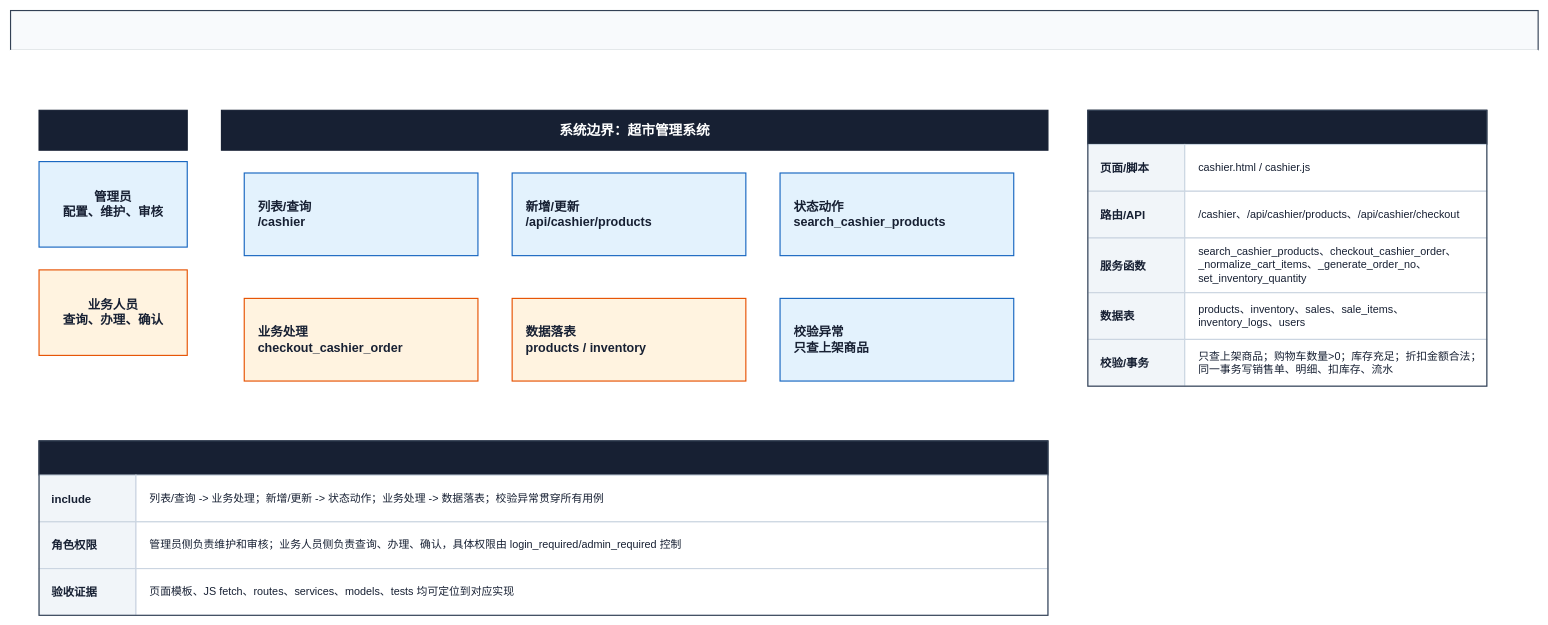
This 1548x625 diagram has some shape labels left out. The shapes that lost their labels are listed below. From the top down, each one's centre as x and y in pixels, then its label:
[774,30]: 收银结算用例图
[774,62]: 模块级用例矩阵｜角色｜用例｜实现入口｜校验点
[113,129]: 角色
[1287,127]: 实现明细
[543,457]: 用例依赖
